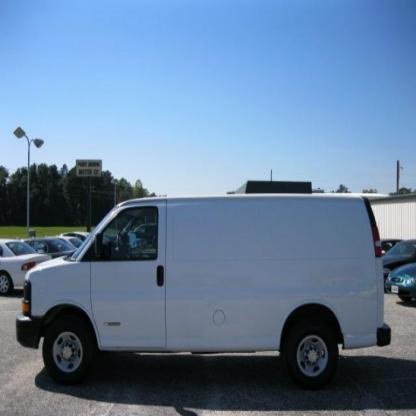Vehicle: (16, 195, 395, 387)
